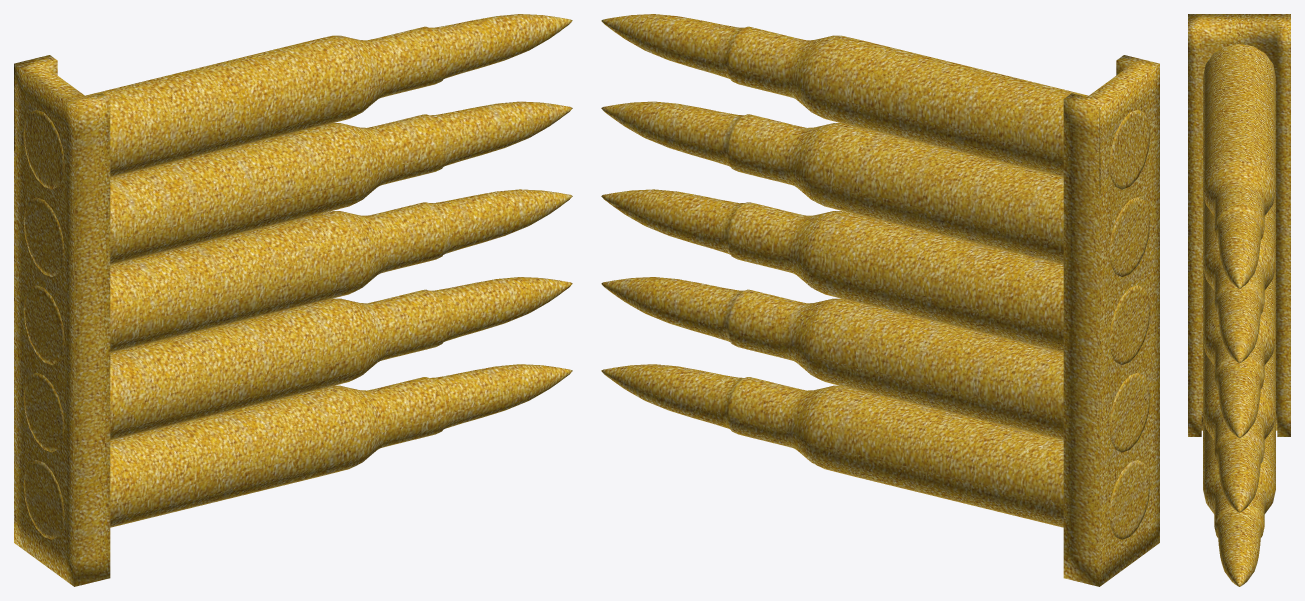
Rendered from ammo.fbx.
The picture shows the model from 3 angles, left to right: view 1: azimuth 30°, elevation 25°; view 2: azimuth 150°, elevation 25°; view 3: azimuth 270°, elevation 25°; orthographic projection. The views are drawn at different scales.
Parts seen in each view (by area): view 1: Bullet; view 2: Bullet; view 3: Bullet.
Boxes of the visible parts, bbox=[...] form: Bullet: bbox=[14, 14, 572, 586]; Bullet: bbox=[601, 14, 1159, 586]; Bullet: bbox=[1188, 14, 1290, 586].
Size of the model in its own units: 7.7 by 6.66 by 1.52.
Materials: 2 (2 with a texture image).
